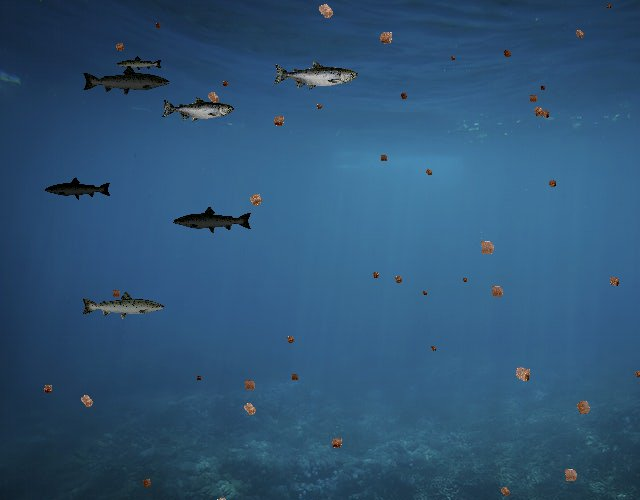Fish: (82, 64, 172, 97), (80, 290, 166, 321), (272, 60, 358, 91), (173, 205, 254, 235), (161, 96, 234, 122), (45, 176, 113, 201), (117, 55, 164, 72)
Pellet: (473, 234, 501, 262), (310, 0, 340, 26), (485, 280, 509, 304), (201, 85, 225, 109), (528, 101, 548, 121), (495, 481, 515, 500), (460, 274, 470, 285)
